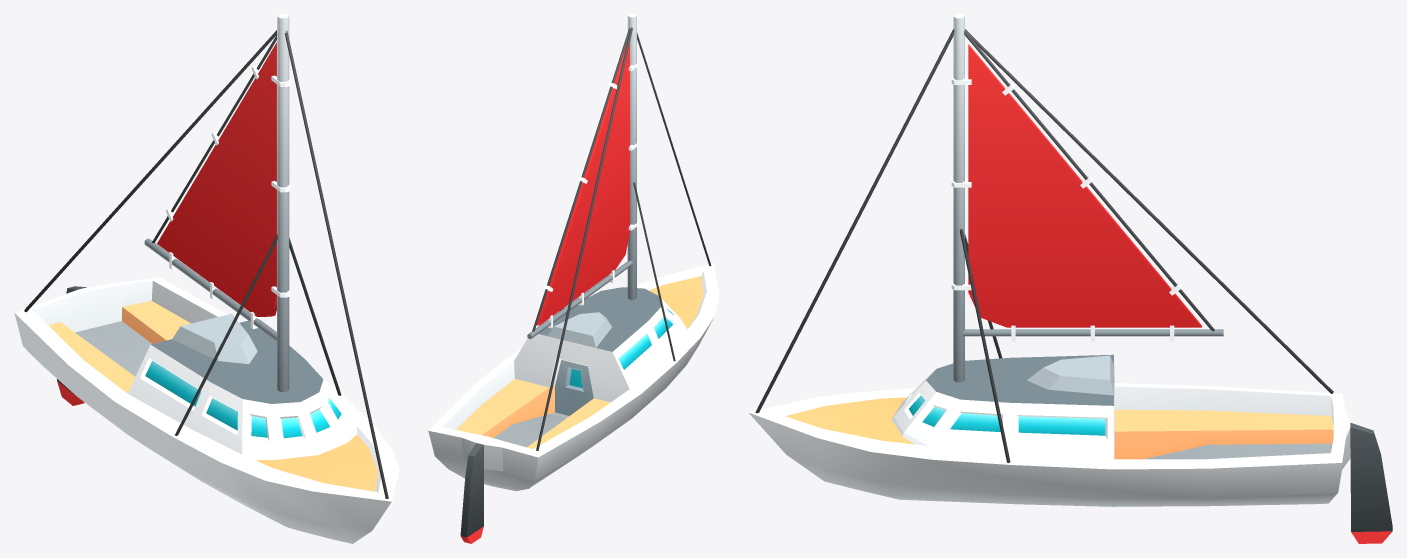
File: Yacht_04.glb
3 renders of one model, left to right at view 1: azimuth 30°, elevation 25°; view 2: azimuth 150°, elevation 25°; view 3: azimuth 270°, elevation 25°, orthographic. The views are drawn at different scales.
Parts seen in each view (by area): view 1: Yacht_04; view 2: Yacht_04; view 3: Yacht_04.
Part boxes in pixels (x1,y1,x2,y2): Yacht_04: (14, 14, 399, 543); Yacht_04: (428, 14, 719, 543); Yacht_04: (748, 14, 1392, 543).
Size of the model in its own units: 6.09 by 17.25 by 19.19.
1 material, 1 textured.
